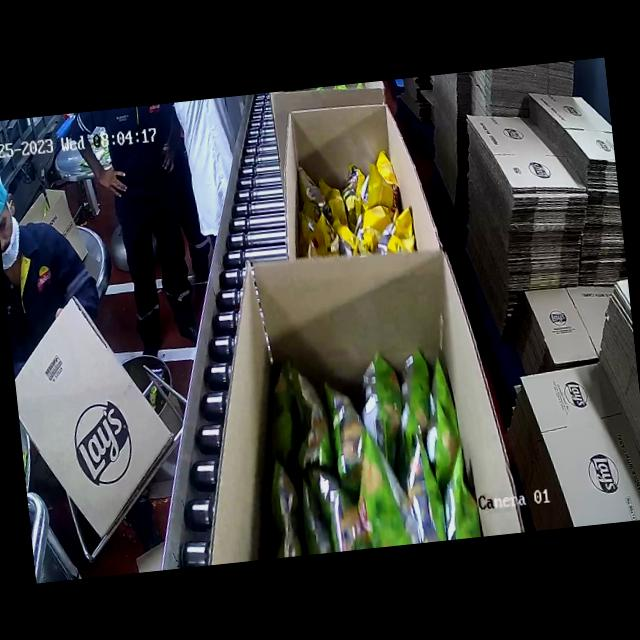salted: (290, 140, 422, 266)
yogurt: (258, 332, 470, 558)
